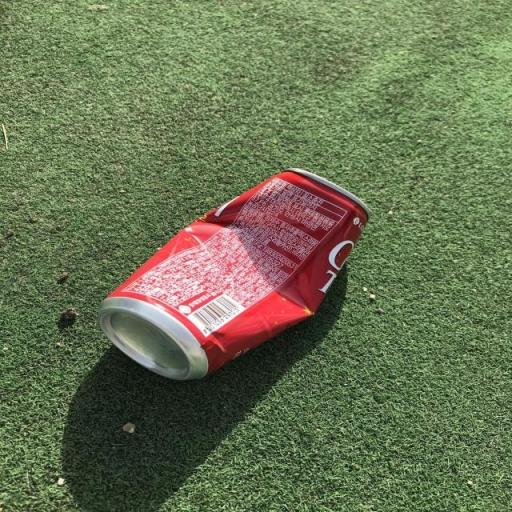metal: (78, 156, 390, 398)
